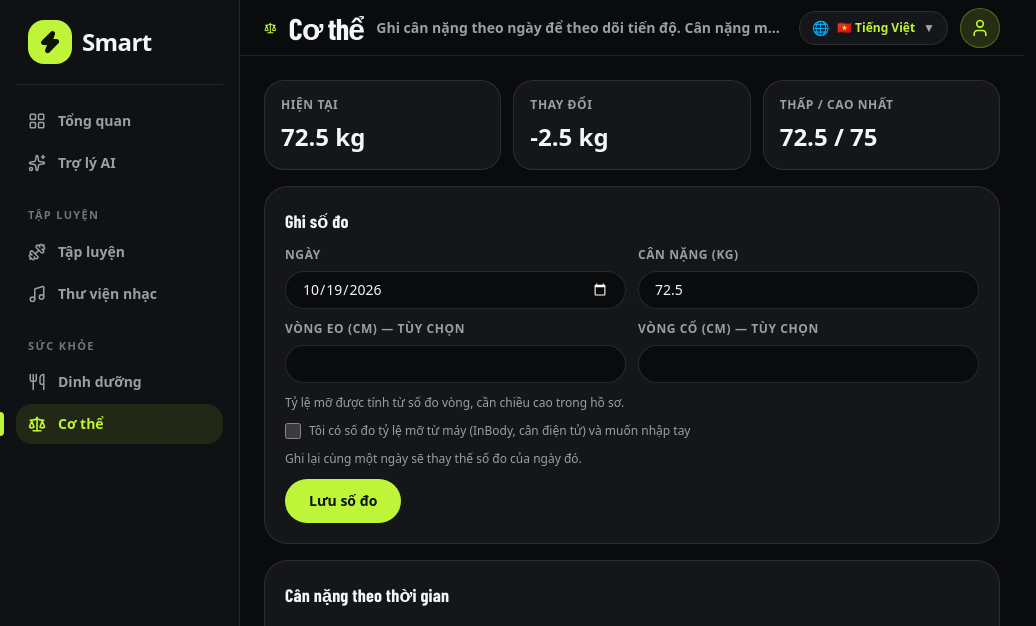
Test: Body page: saving › weight = {} is refused with a message and nothing is sent
This screenshot has width=1036, height=626.
Expected: the heading "Cơ thể" is shown, [289,10,364,46]
Step 1. Replace the text in the number field labelled "Cân nặng (kg)" with "9" → (808, 290), box [638,271,979,309]
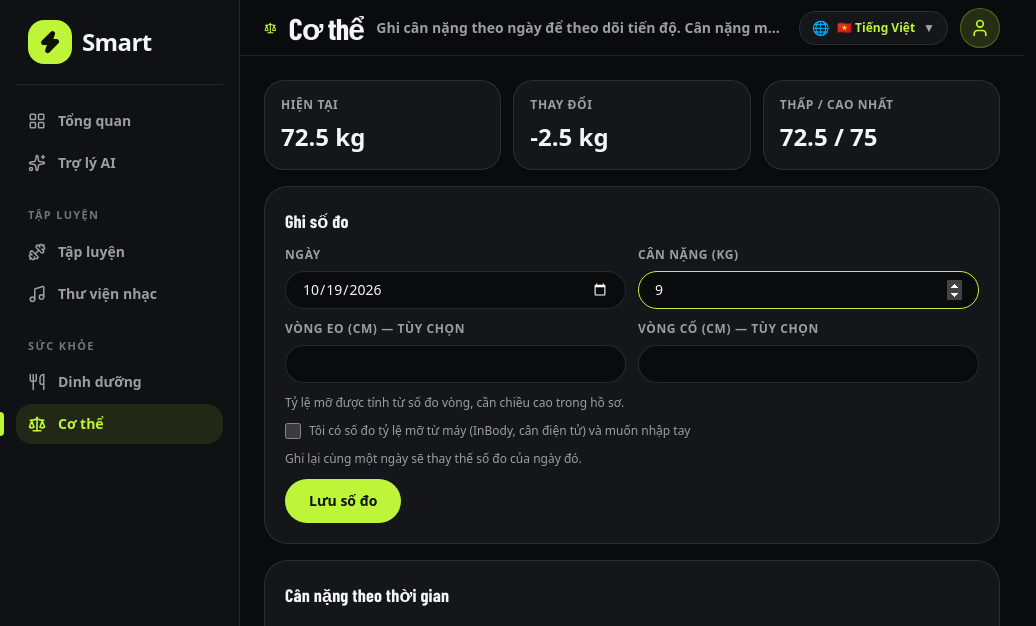
Step 2. Click the button "Lưu số đo" → click(343, 501), box [285,479,401,523]
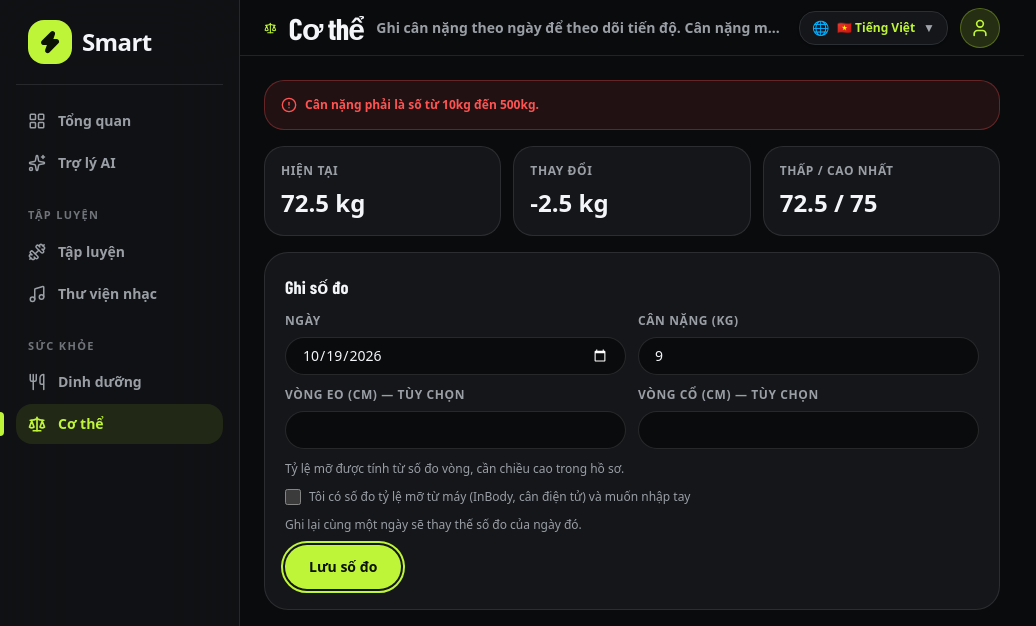
Expected: the message shows "Cân nặng", [305,96,539,113]
